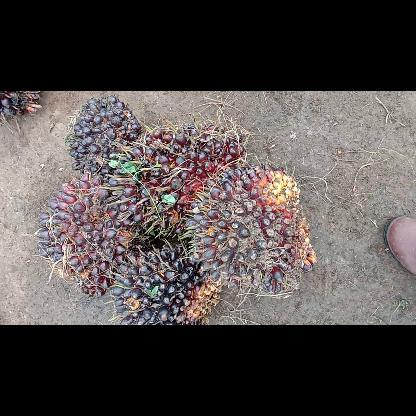TBS mentah: (183, 160, 318, 302), (107, 117, 247, 239), (33, 170, 151, 300), (104, 240, 220, 324), (65, 95, 145, 182)
